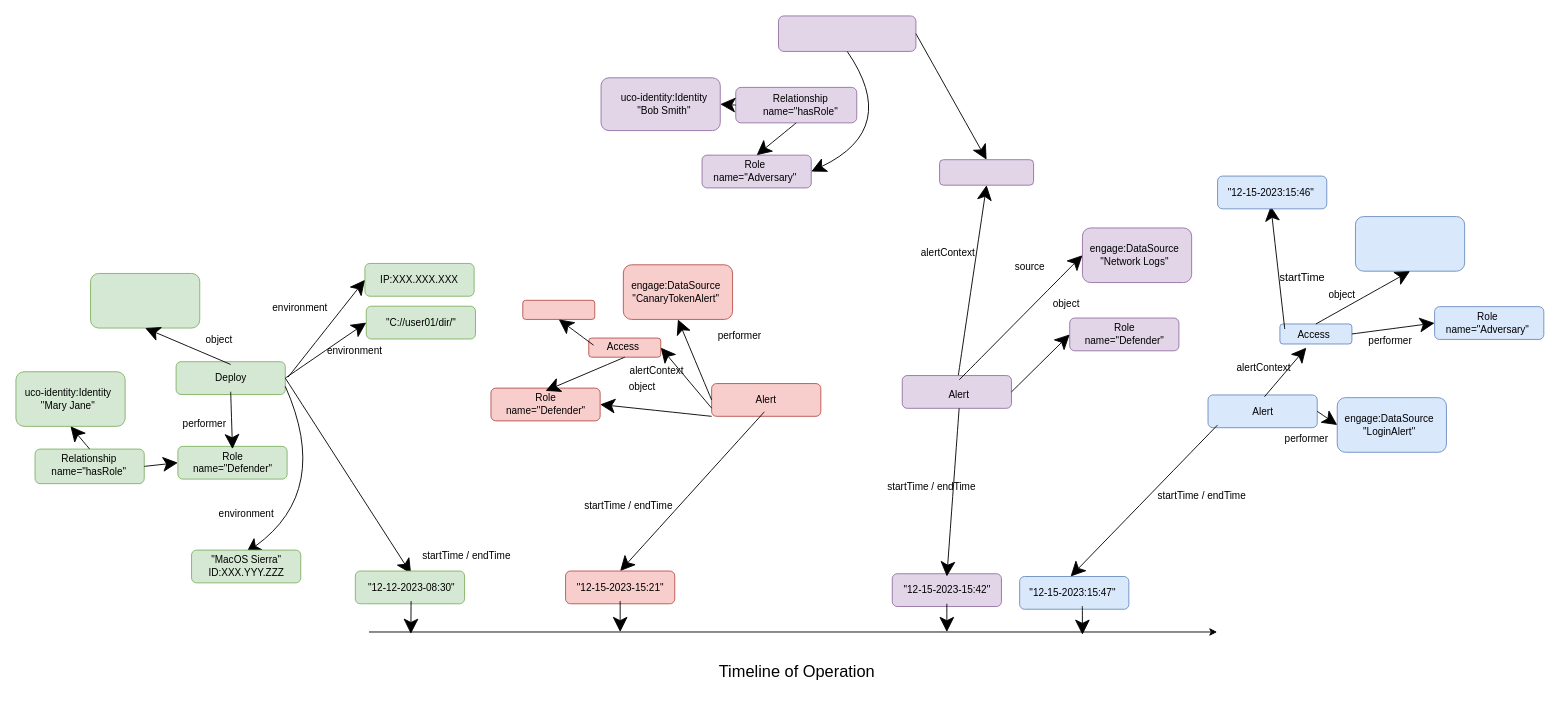
The diagram is 1560 pixels wide and 703 high, and some of its shapes have lost their labels. Here are the shapes that lost their labels. From the top down, the centre of each, then its label:
(847,33): Relationship name="hasKnownlP"
(986,172): AdvIP
(1410,243): engage:Honeypot "Windows XP"
(145,300): engage:HoneyToken "User Account Credentials"
(558,309): File
